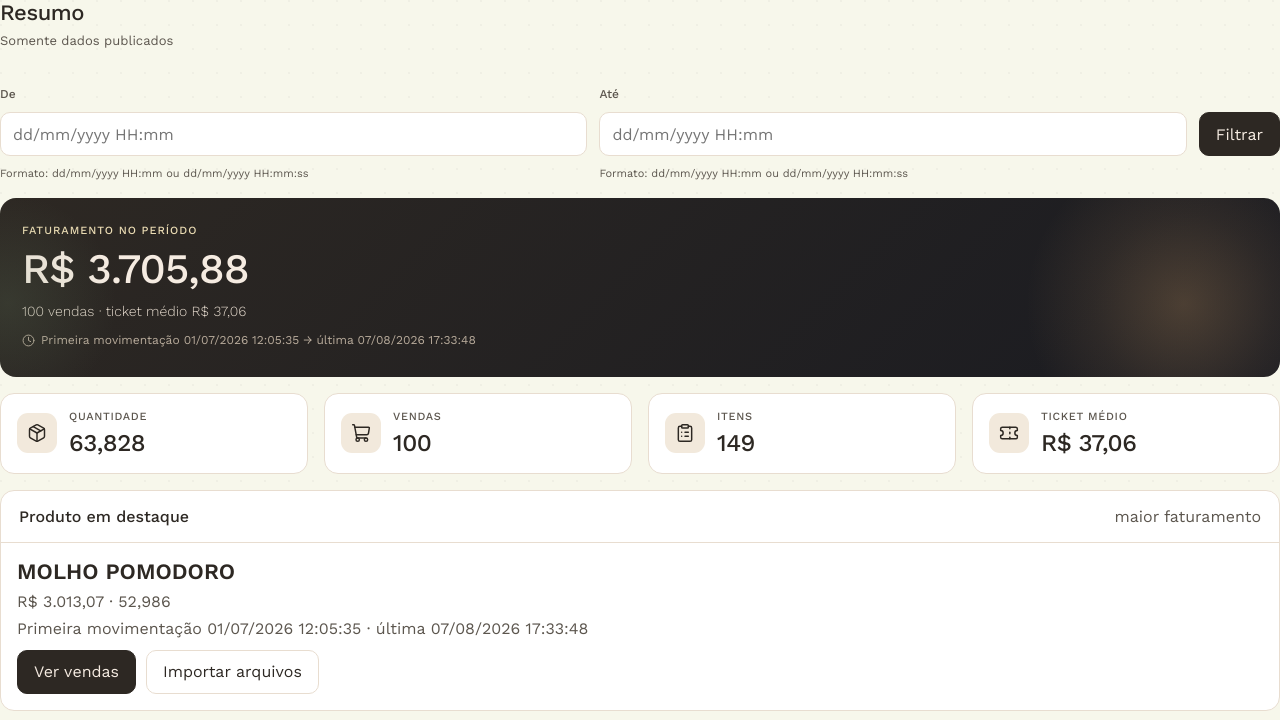
Test: DashboardPage › shows an error and does not submit malformed date filters
Expected: the text "Faturamento no período" is shown, [22, 224, 197, 237]
Type "31/02/2026 00:00" into the field labelled "De" at (294, 134), box [0, 112, 587, 156]
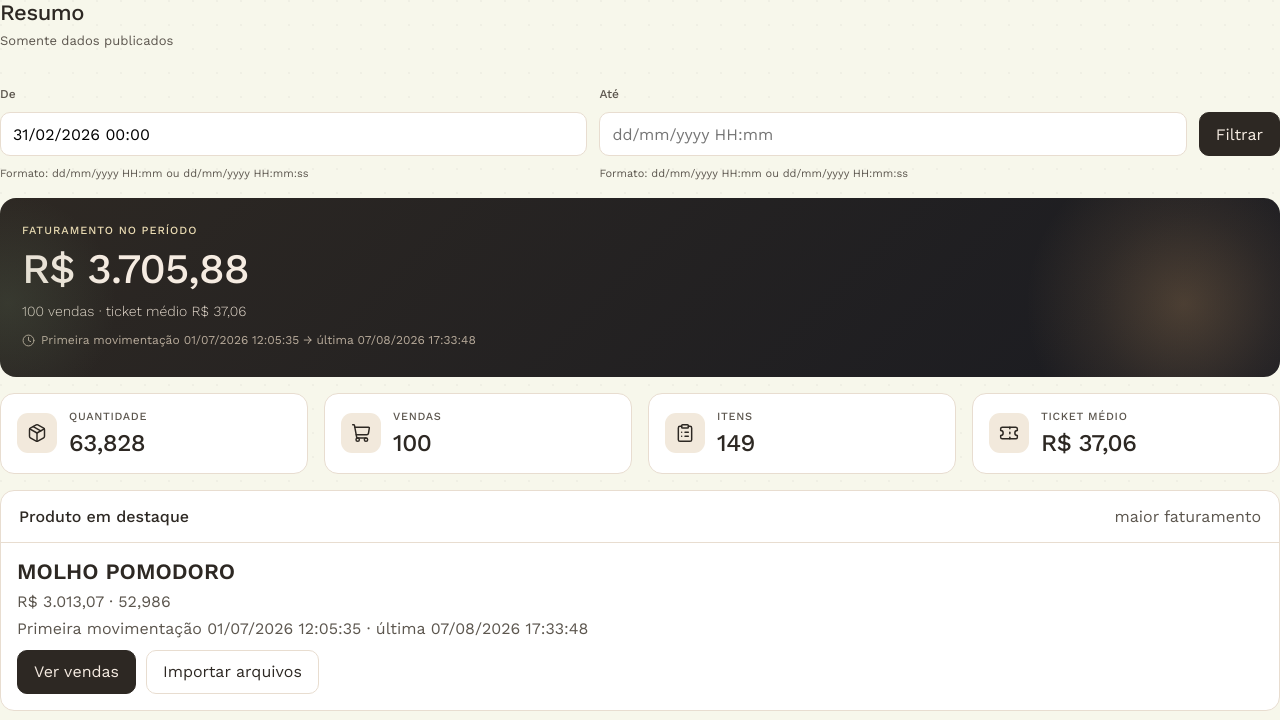
Type "31/07/2026" into the field labelled "Até" at (893, 134), box [599, 112, 1187, 156]
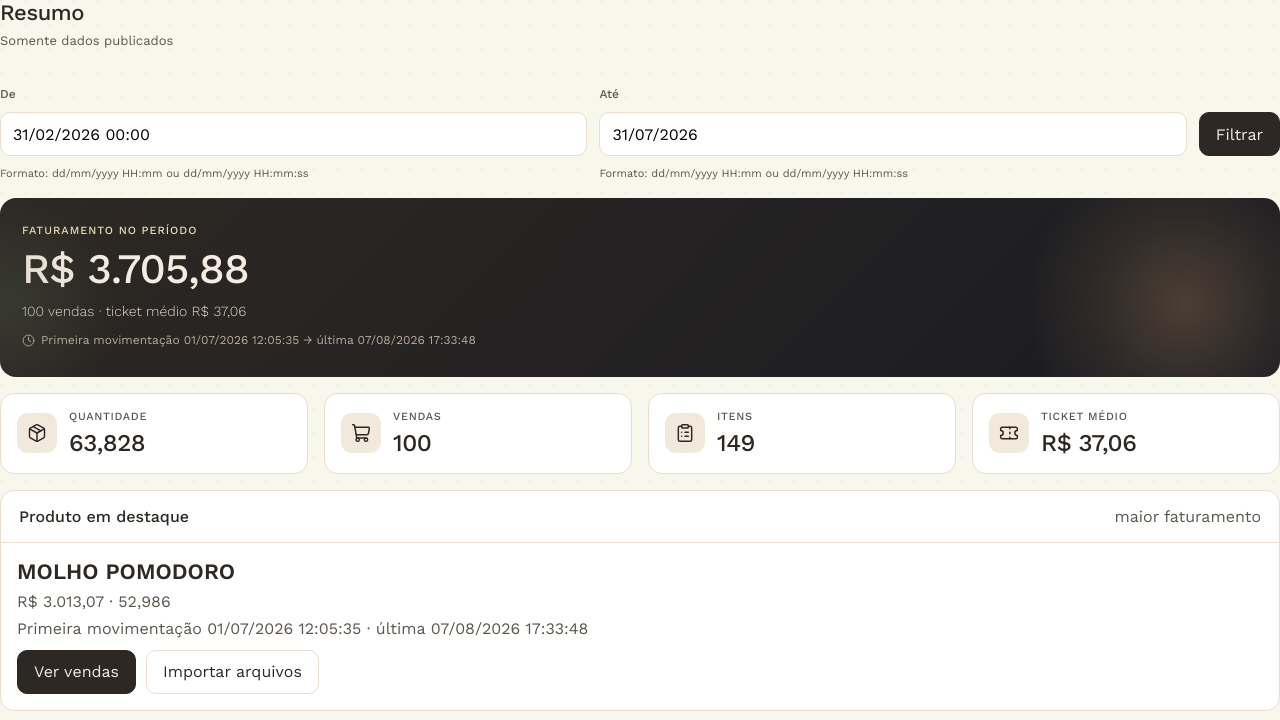
Click the button "Filtrar" at (1239, 134), box [1199, 112, 1279, 156]
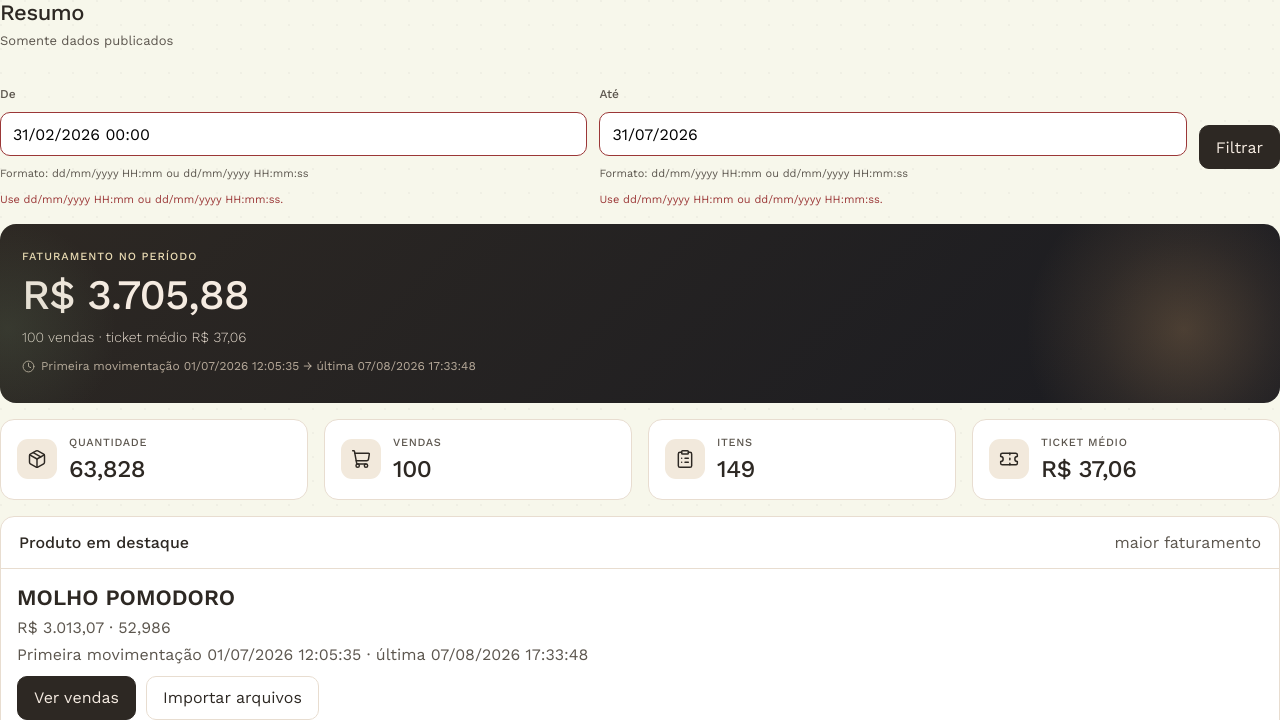
Expected: the number of messages is 2, [0, 193, 283, 206]; [599, 193, 883, 206]
